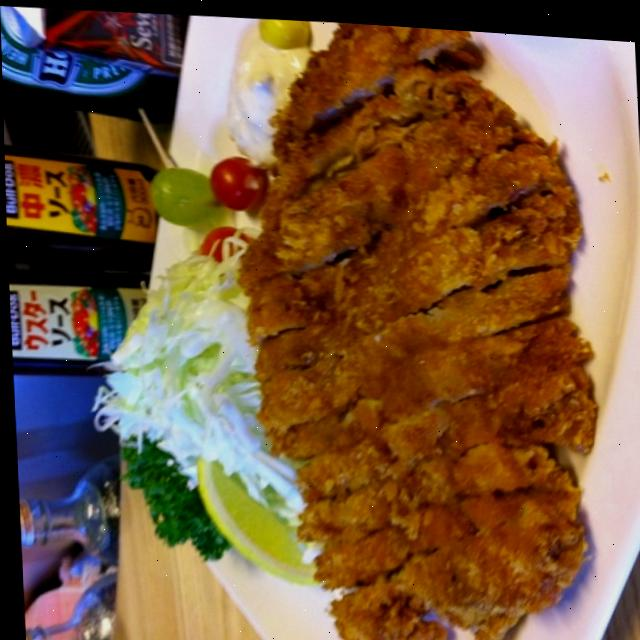鸡肉料理 含炸鸡: (63, 3, 640, 640)
